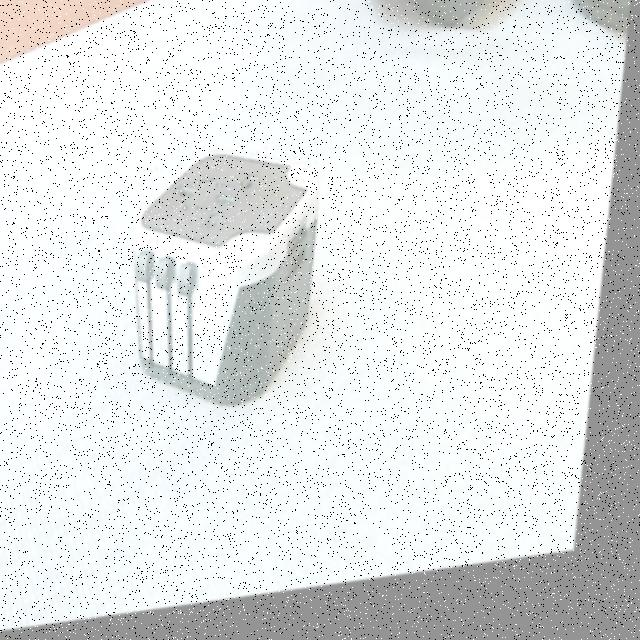adapter: (122, 145, 332, 426)
